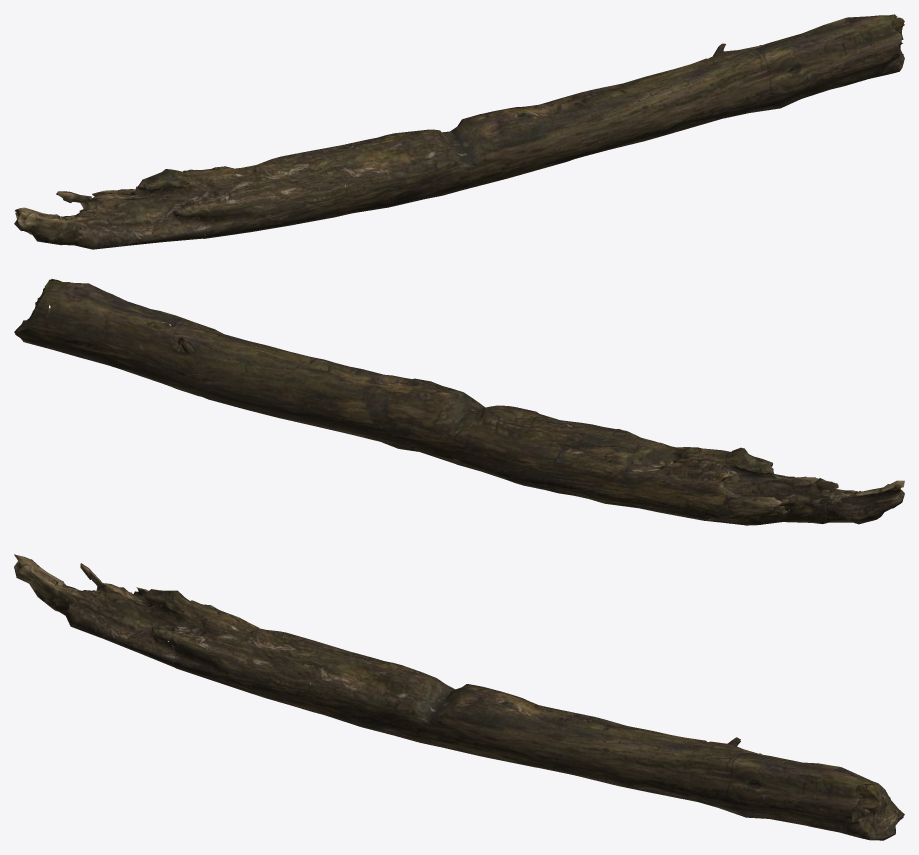
Rendered from log.glb.
3 renders of one model, top to bottom at view 1: azimuth 30°, elevation 25°; view 2: azimuth 150°, elevation 25°; view 3: azimuth 330°, elevation 25°, orthographic.
Visible parts, largest first — view 1: log; view 2: log; view 3: log.
Boxes of the visible parts, bbox=[...] form: log: bbox=[14, 14, 904, 249]; log: bbox=[14, 279, 904, 525]; log: bbox=[14, 554, 904, 840].
Bounding box in the file's own units: 3.05 × 0.2898 × 0.2746.
1 material, 1 textured.
